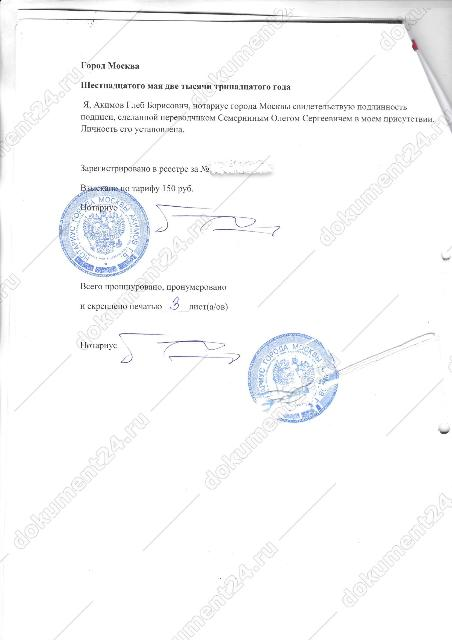stamp: (57, 186, 151, 278), (244, 334, 340, 424)
